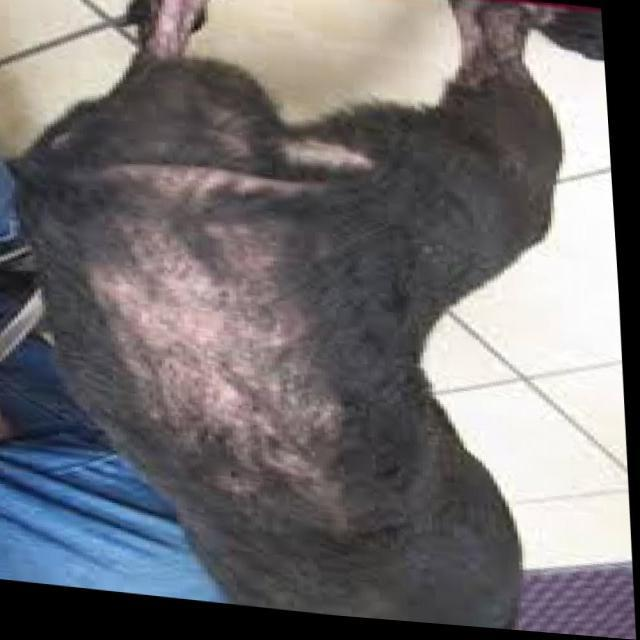allergic dermatitis: (90, 212, 368, 524)
